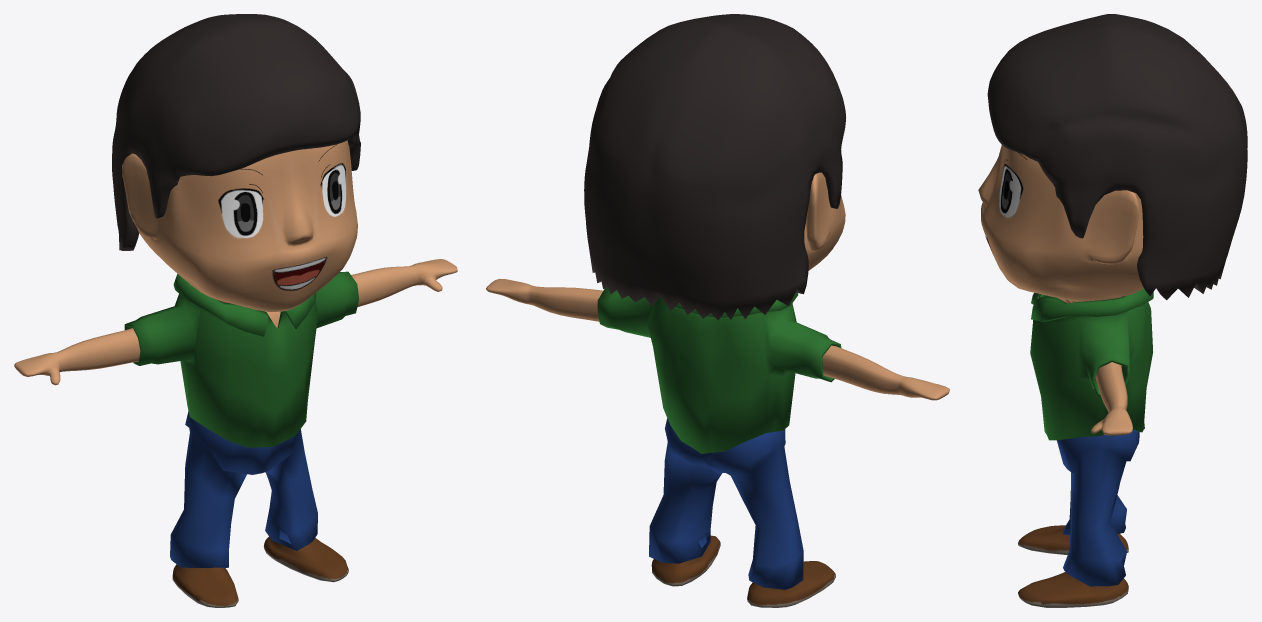
File: chiby.glb
3 views of the same model, side by side, from view 1: azimuth 30°, elevation 25°; view 2: azimuth 150°, elevation 25°; view 3: azimuth 270°, elevation 25° (orthographic). The views are drawn at different scales.
Visible parts, largest first — view 1: Body, Rambut jadi, Baju, Celana; view 2: Rambut jadi, Baju, Celana, Body; view 3: Rambut jadi, Body, Baju, Celana.
Boxes of the visible parts, x1,y1,x2,y2 form: Body: [14, 140, 457, 607]; Rambut jadi: [112, 14, 360, 250]; Baju: [124, 271, 358, 447]; Celana: [170, 411, 317, 567]; Rambut jadi: [584, 14, 846, 320]; Baju: [597, 287, 841, 453]; Celana: [649, 418, 803, 589]; Body: [486, 172, 949, 607]; Rambut jadi: [987, 14, 1247, 300]; Body: [978, 144, 1143, 607]; Baju: [1030, 289, 1153, 440]; Celana: [1057, 429, 1139, 586].
Bounding box in the file's own units: 2.17 × 2.58 × 1.15.
Materials: 4 (1 with a texture image).
